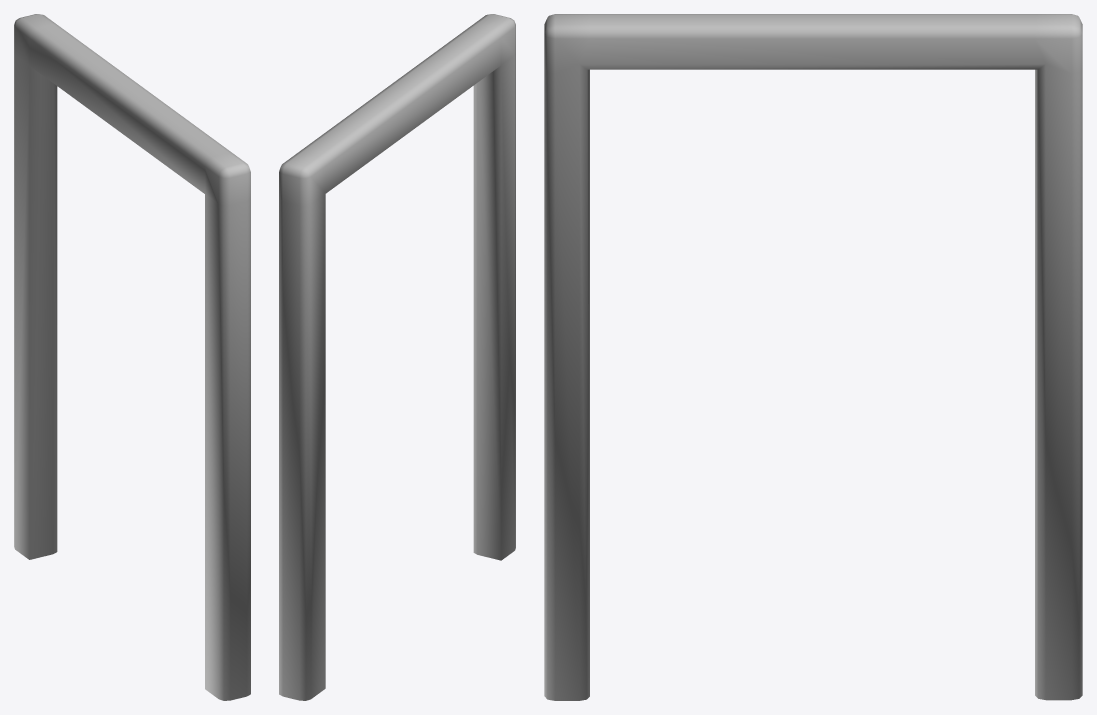
The model's file is DoorFrame.fbx.
3 views of the same model, side by side, from view 1: azimuth 30°, elevation 25°; view 2: azimuth 150°, elevation 25°; view 3: azimuth 270°, elevation 25° (orthographic). The views are drawn at different scales.
Visible parts, largest first — view 1: DoorFfame; view 2: DoorFfame; view 3: DoorFfame.
Part boxes in pixels (bbox=[...]): DoorFfame: bbox=[14, 14, 250, 700]; DoorFfame: bbox=[279, 14, 515, 700]; DoorFfame: bbox=[544, 14, 1082, 700].
Size of the model in its own units: 14.75 by 240 by 174.
